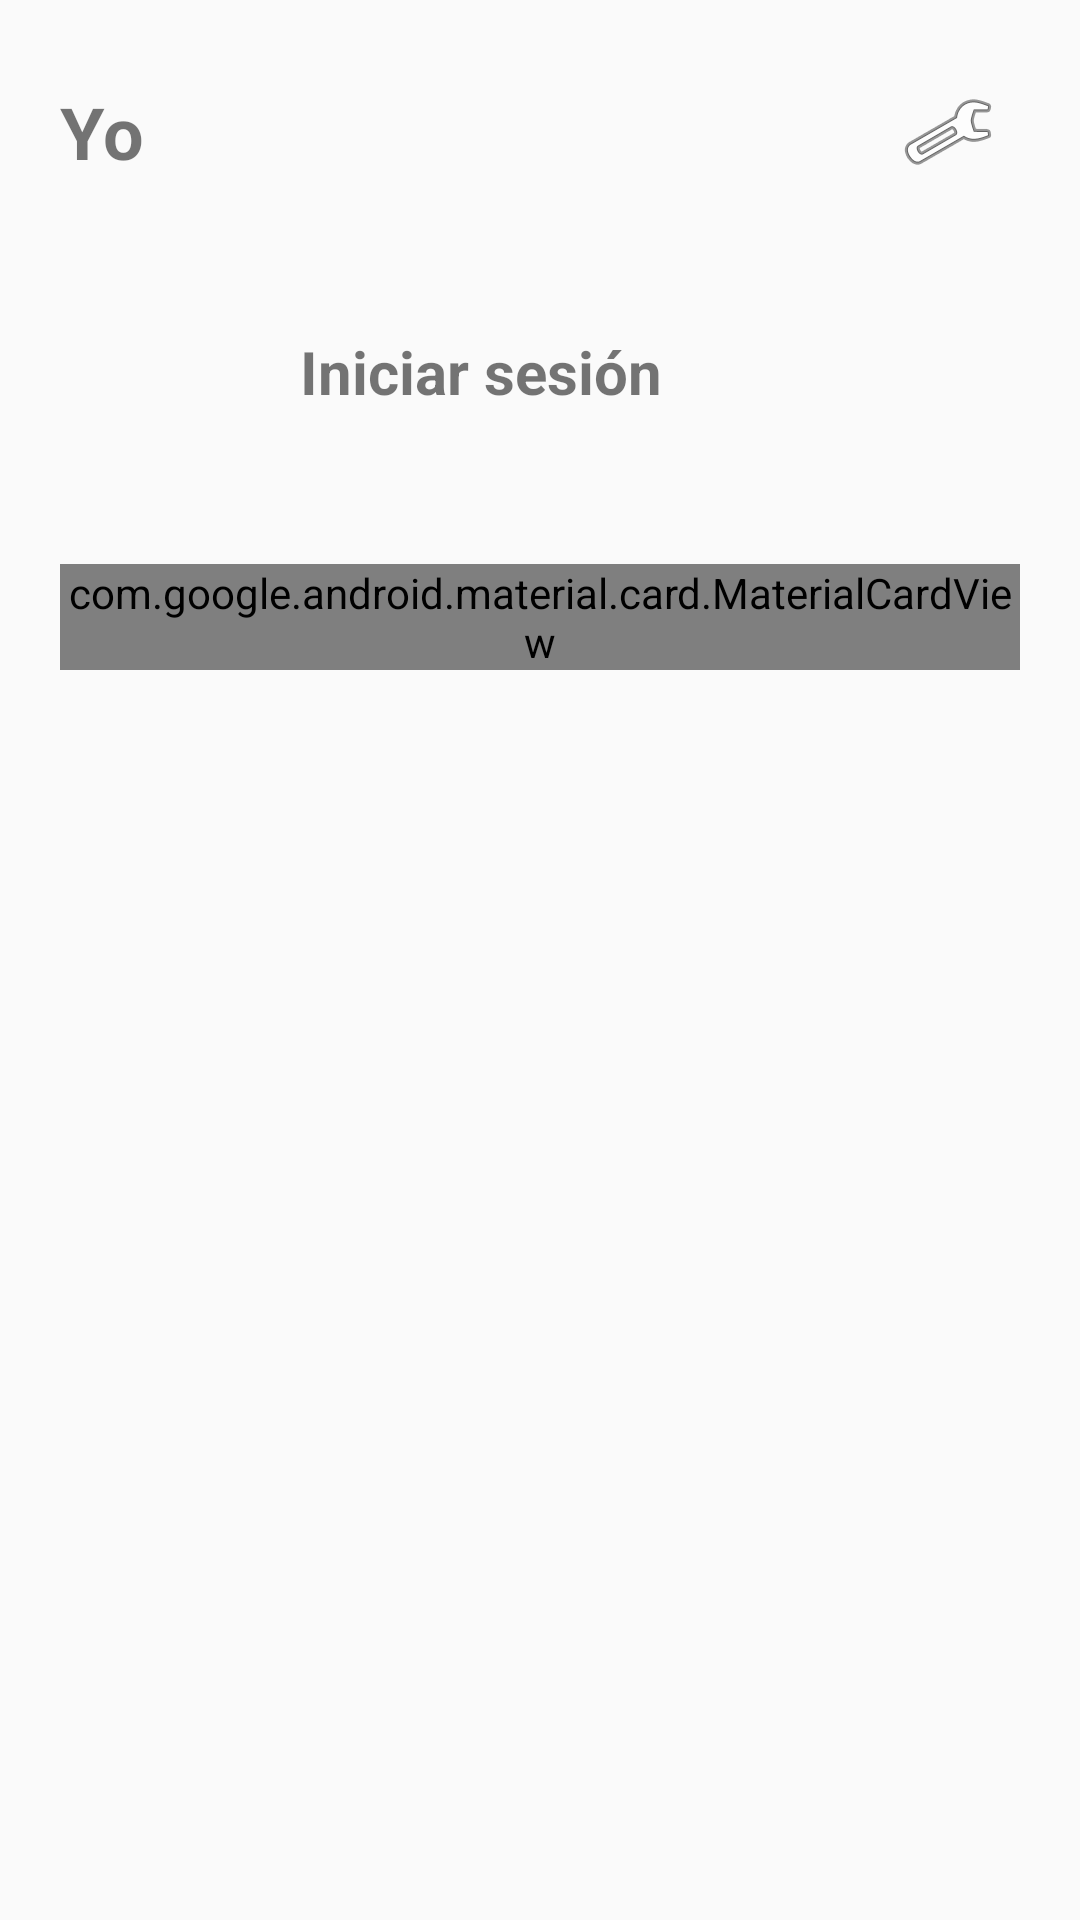

Icons on this 1080w x 1920h Android screen, each with its box as BBox(x1, y1, x2, y2):
preferences: BBox(905, 99, 991, 165)
